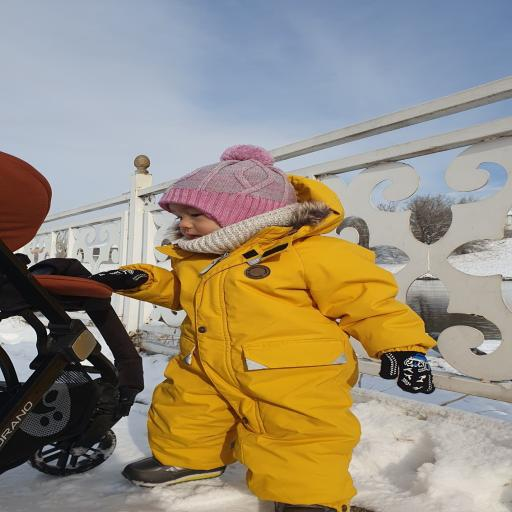bus_stop: (94, 146, 434, 511)
steps_down: (0, 153, 143, 475)
